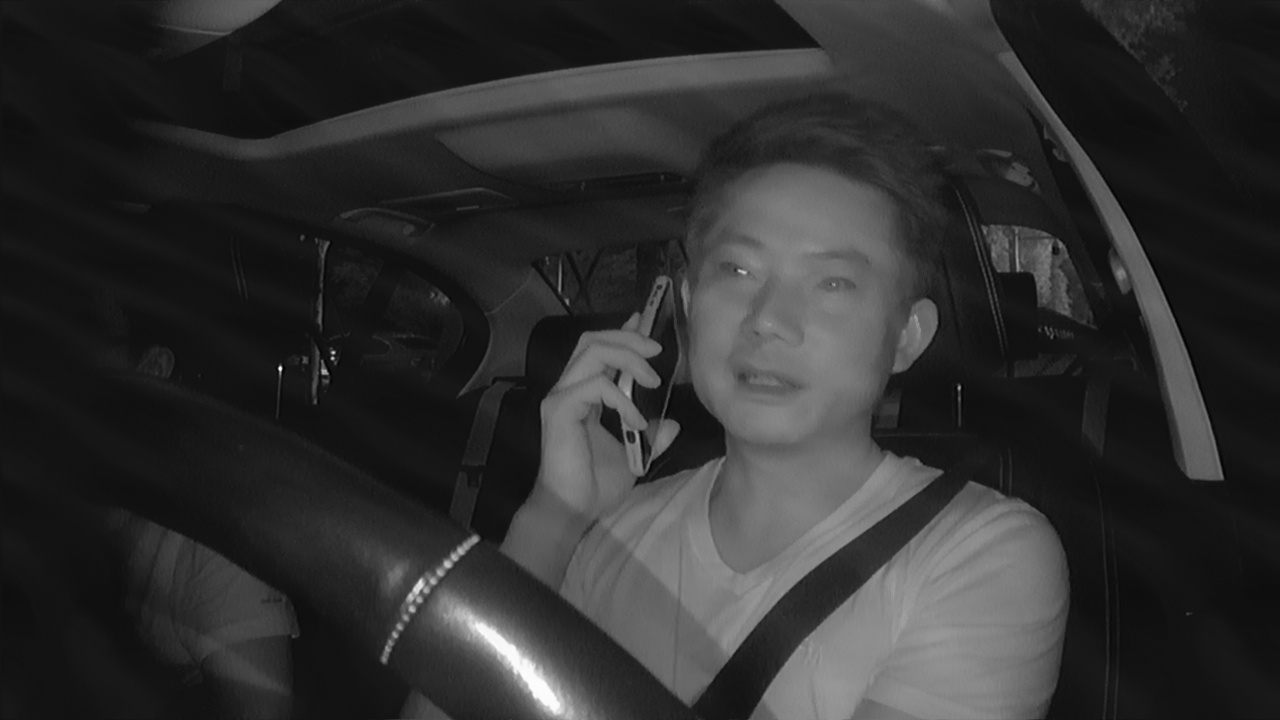hand: (539, 311, 682, 515)
